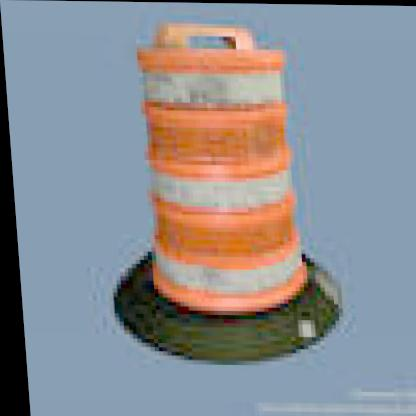obstacle: (126, 26, 327, 324)
